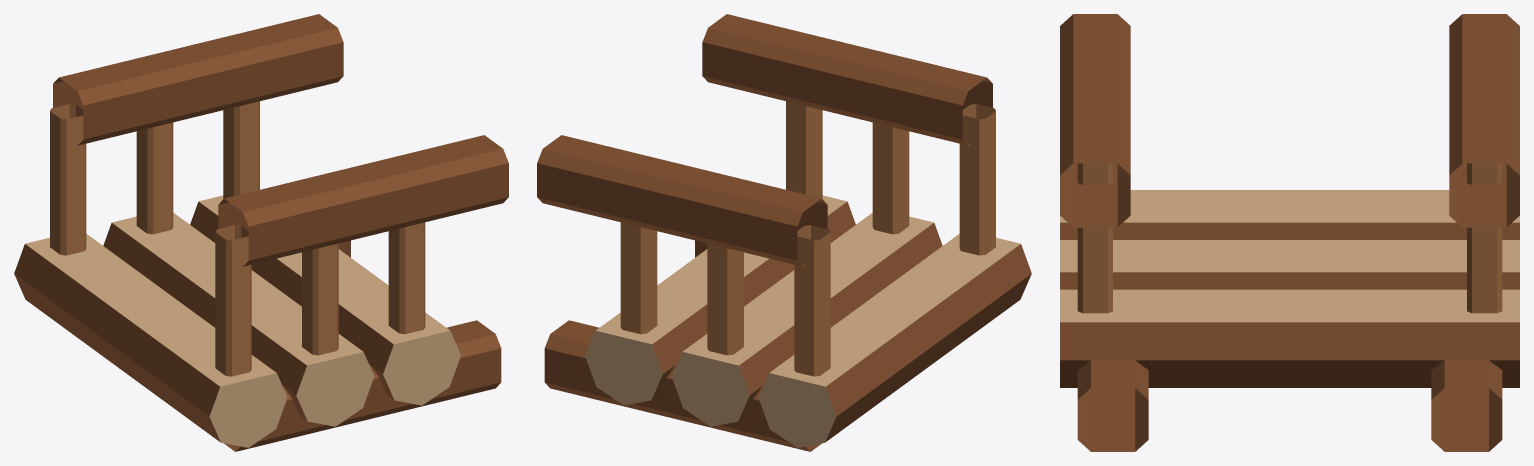
Rendered from Track_Bridge_Flat_Floating.obj.
3 views of the same model, side by side, from view 1: azimuth 30°, elevation 25°; view 2: azimuth 150°, elevation 25°; view 3: azimuth 270°, elevation 25° (orthographic). The views are drawn at different scales.
Visible parts, largest first — view 1: Bridge_Rail, Bridge_Rail_Support, Log_Plank_Top, Log_Plank_Bark, Log_Plank_End, Bridge_Support_Beam; view 2: Bridge_Rail, Bridge_Rail_Support, Log_Plank_Top, Log_Plank_Bark, Log_Plank_End, Bridge_Support_Beam; view 3: Log_Plank_Bark, Log_Plank_Top, Bridge_Rail, Bridge_Support_Beam, Bridge_Rail_Support.
Boxes of the visible parts, box(x1,y1,x2,y2) form: Bridge_Rail: box(53, 14, 508, 266); Bridge_Rail_Support: box(50, 101, 425, 376); Log_Plank_Top: box(25, 195, 449, 386); Log_Plank_Bark: box(14, 201, 393, 442); Log_Plank_End: box(209, 331, 460, 447); Bridge_Support_Beam: box(224, 240, 501, 451); Bridge_Rail: box(537, 14, 992, 266); Bridge_Rail_Support: box(620, 101, 995, 376); Log_Plank_Top: box(596, 195, 1020, 386); Log_Plank_Bark: box(652, 201, 1031, 442); Log_Plank_End: box(585, 331, 836, 447); Bridge_Support_Beam: box(544, 240, 821, 451); Log_Plank_Bark: box(1060, 222, 1519, 387); Log_Plank_Top: box(1060, 190, 1519, 322); Bridge_Rail: box(1060, 14, 1519, 227); Bridge_Support_Beam: box(1077, 360, 1502, 451); Bridge_Rail_Support: box(1077, 163, 1502, 313).
Size of the model in its own units: 1.15 by 0.9 by 1.3.
